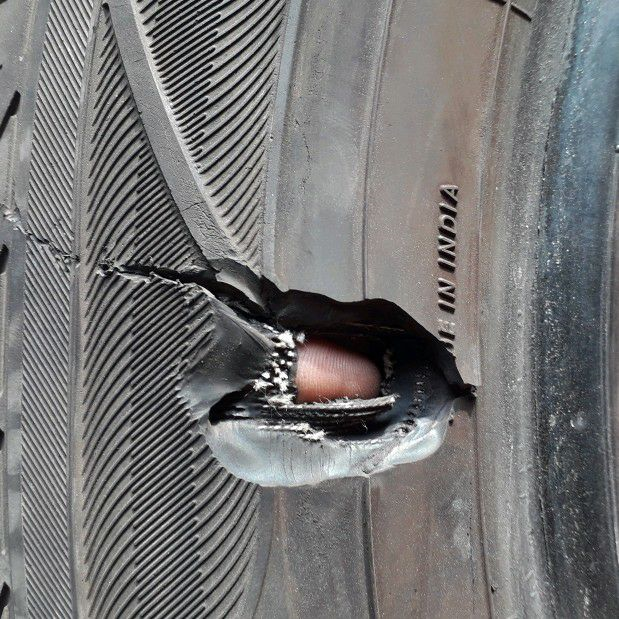bead_damage: (95, 256, 480, 488)
cut: (3, 205, 75, 264)
